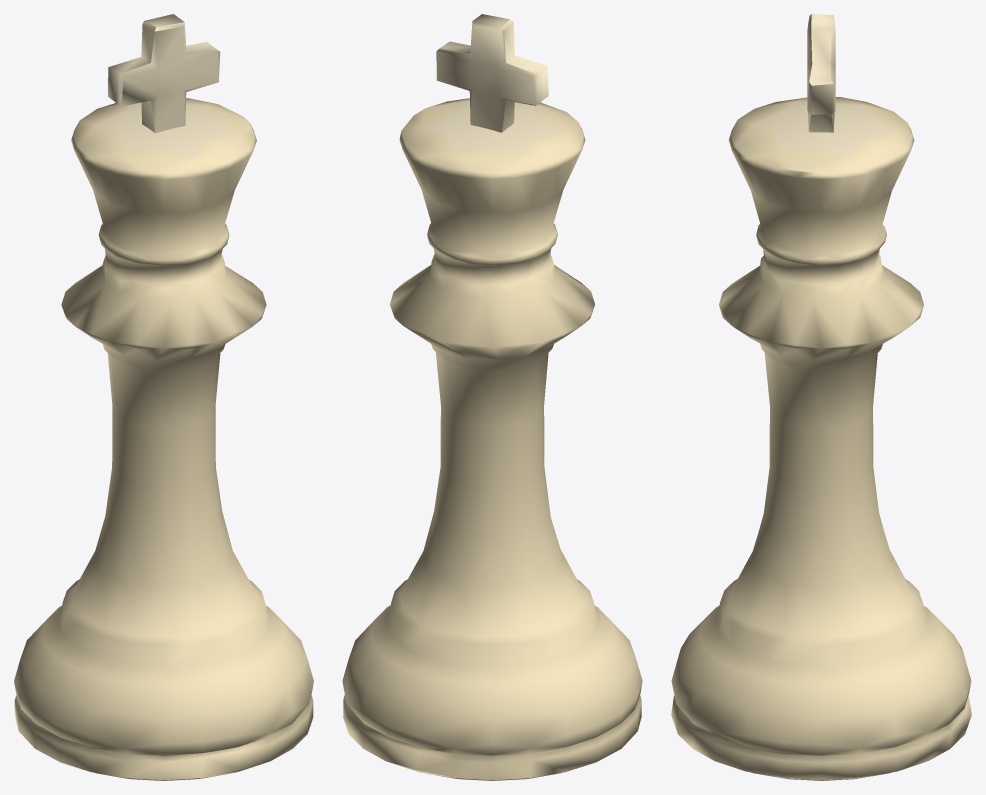
Rendered from xadrez_rei_branco_pacote.glb.
3 renders of one model, left to right at view 1: azimuth 30°, elevation 25°; view 2: azimuth 150°, elevation 25°; view 3: azimuth 270°, elevation 25°, orthographic.
Parts seen in each view (by area): view 1: xadrez_rei_branco_pacote; view 2: xadrez_rei_branco_pacote; view 3: xadrez_rei_branco_pacote.
Boxes of the visible parts, x1,y1,x2,y2 form: xadrez_rei_branco_pacote: (14,14,313,780); xadrez_rei_branco_pacote: (342,14,642,780); xadrez_rei_branco_pacote: (671,14,971,780).
Size of the model in its own units: 0.04 by 0.1036 by 0.0401.
Materials: 1 (1 with a texture image).
